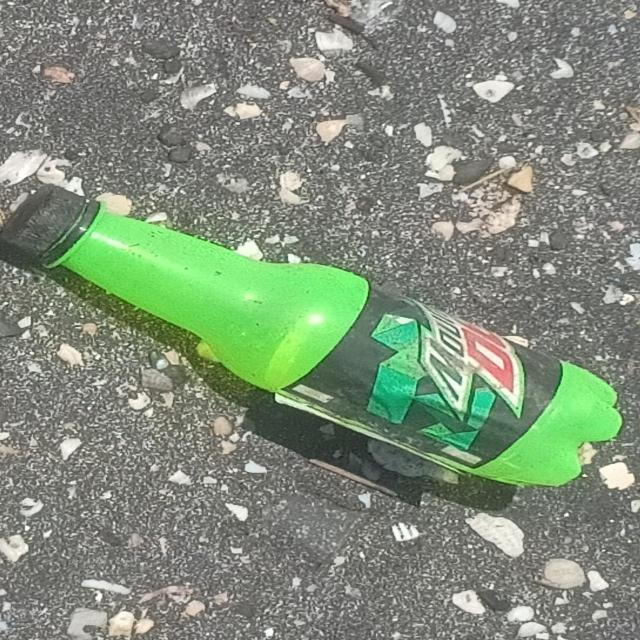plastic_waste: (1, 183, 626, 490)
